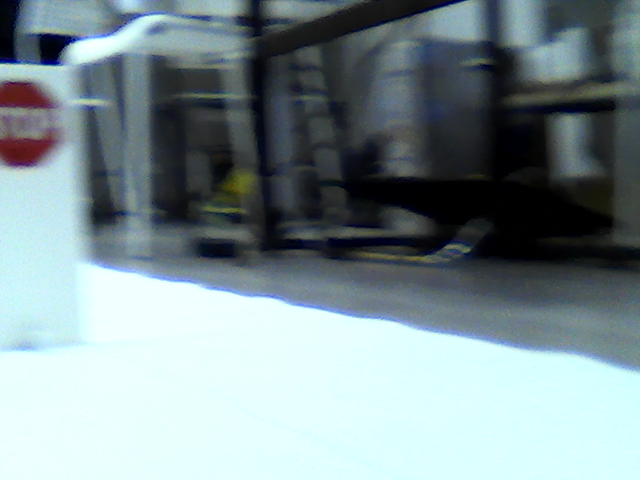Stop: (2, 76, 58, 170)
